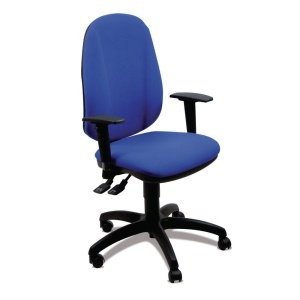chair: (80, 13, 232, 283)
